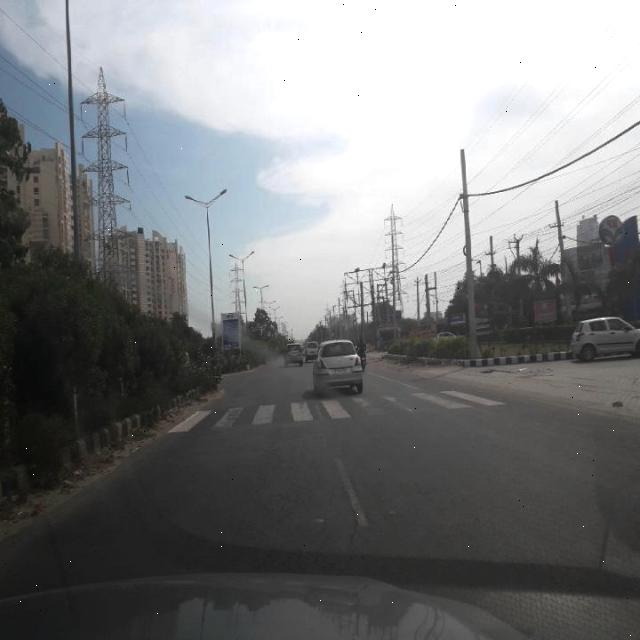D20: (90, 434, 623, 582)
D43: (176, 383, 533, 433)
D44: (334, 450, 374, 525)
